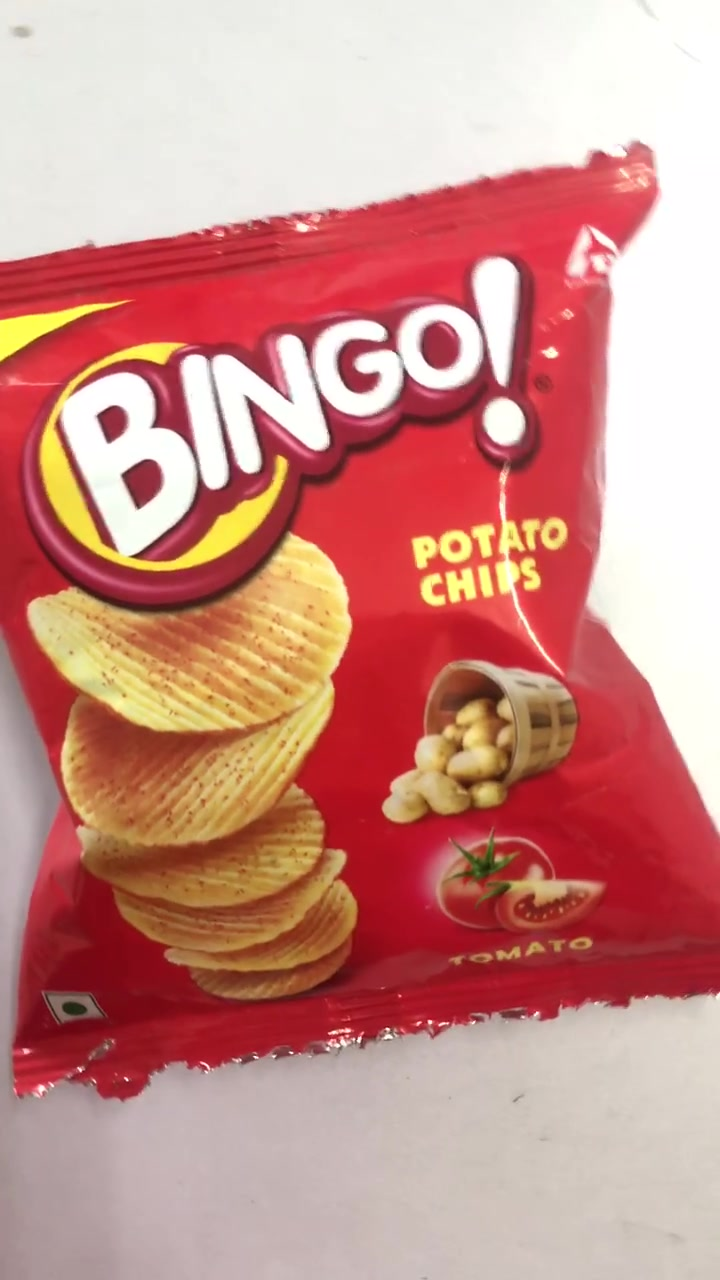Bingo: (1, 195, 719, 1035)
